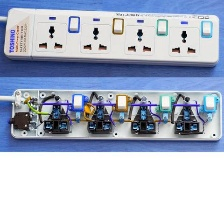three_eye_plug: (0, 5, 221, 71), (7, 85, 223, 145)
